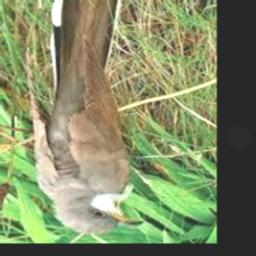Cuckoo: (31, 0, 143, 233)
